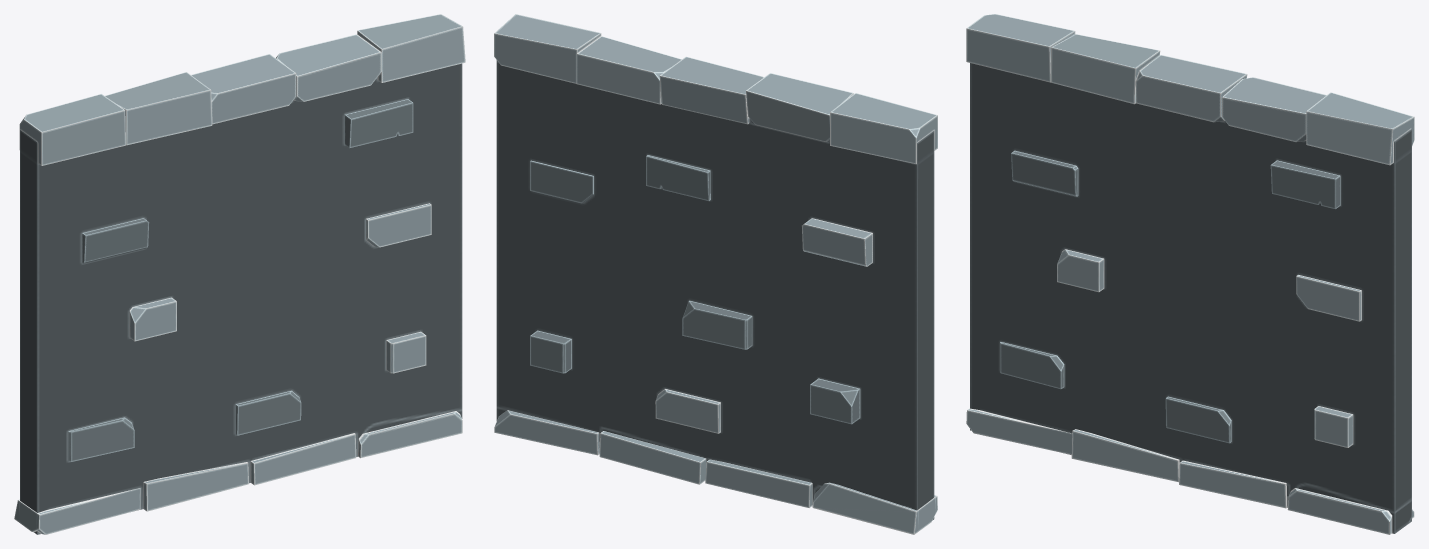
File: wall_2.glb
The picture shows the model from 3 angles, left to right: view 1: azimuth 30°, elevation 25°; view 2: azimuth 150°, elevation 25°; view 3: azimuth 330°, elevation 25°; orthographic projection.
Visible parts, largest first — view 1: Wall 2; view 2: Wall 2; view 3: Wall 2.
Part boxes in pixels (bbox=[...]): Wall 2: bbox=[14, 14, 465, 534]; Wall 2: bbox=[494, 14, 937, 534]; Wall 2: bbox=[966, 14, 1414, 534].
Size of the model in its own units: 2.01 by 1.83 by 0.2623.
1 material, 1 textured.
